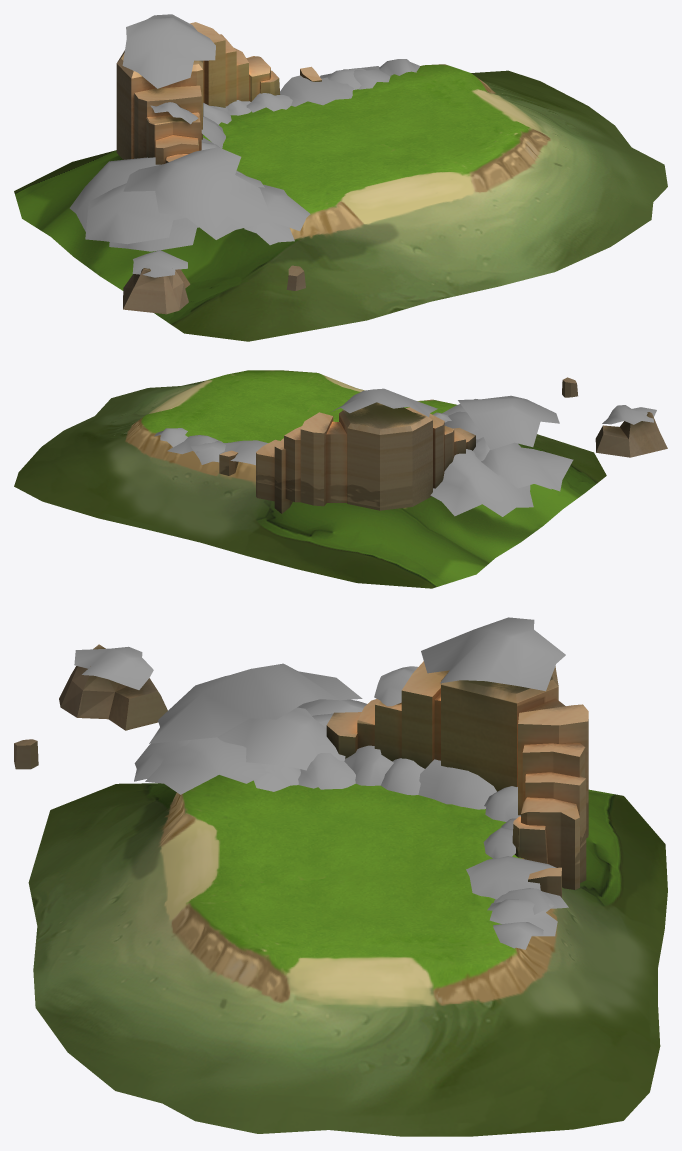
The model's file is med_a_island.FBX.
3 renders of one model, top to bottom at view 1: azimuth 30°, elevation 25°; view 2: azimuth 150°, elevation 25°; view 3: azimuth 270°, elevation 25°, orthographic. The views are drawn at different scales.
Visible parts, largest first — view 1: Rectangle010, med_a, Line028, objLine034; view 2: Rectangle010, Line028, med_a, objLine034; view 3: Rectangle010, Line028, med_a, objLine034.
Part boxes in pixels (box(x1,y1,x2,y2)): Rectangle010: box(14, 64, 667, 341); med_a: box(69, 14, 310, 277); Line028: box(116, 22, 321, 314); objLine034: box(201, 59, 419, 175); Rectangle010: box(14, 370, 606, 588); Line028: box(219, 377, 667, 513); med_a: box(331, 388, 656, 516); objLine034: box(154, 428, 267, 465); Rectangle010: box(28, 775, 667, 1136); Line028: box(14, 644, 588, 897); med_a: box(74, 617, 565, 794); objLine034: box(253, 745, 568, 949).
Bounding box in the file's own units: 98.95 × 27.47 × 68.98.
